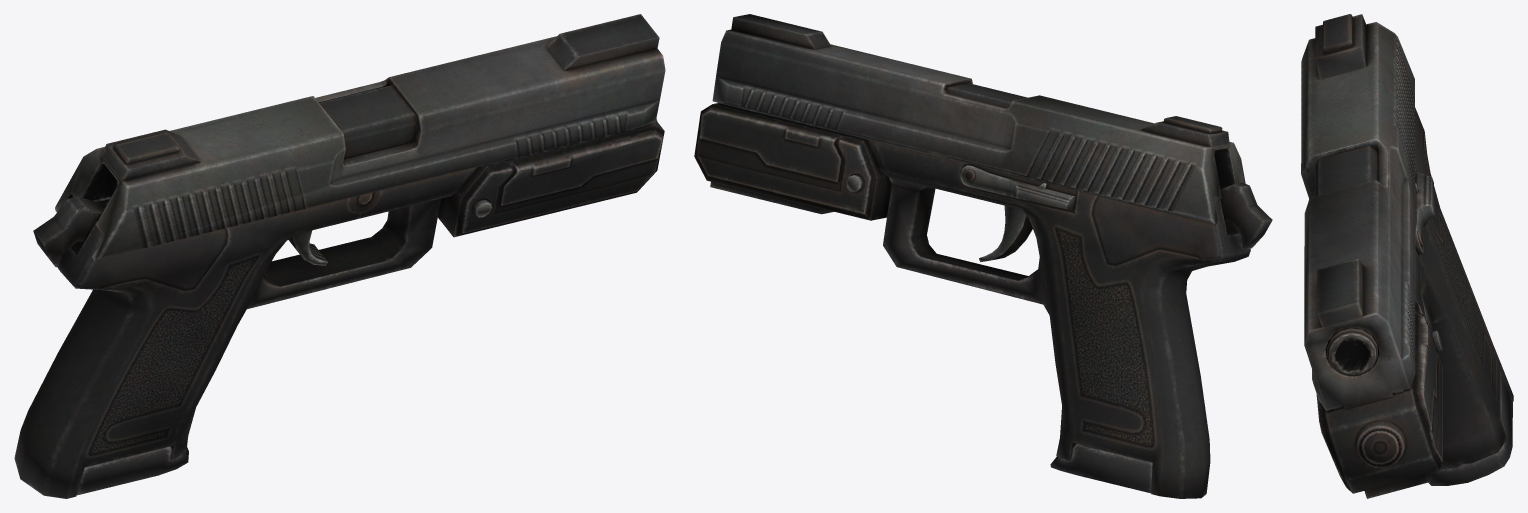
Rendered from pistol2_000023.obj.
3 views of the same model, side by side, from view 1: azimuth 30°, elevation 25°; view 2: azimuth 150°, elevation 25°; view 3: azimuth 270°, elevation 25° (orthographic). The views are drawn at different scales.
Visible parts, largest first — view 1: Pistol; view 2: Pistol; view 3: Pistol.
Boxes of the visible parts, x1=… form: Pistol: x1=14, y1=14, x2=665, y2=498; Pistol: x1=694, y1=14, x2=1272, y2=498; Pistol: x1=1301, y1=14, x2=1513, y2=498.
Size of the model in its own units: 0.9462 by 0.5476 by 0.2536.
Materials: 1 (1 with a texture image).
